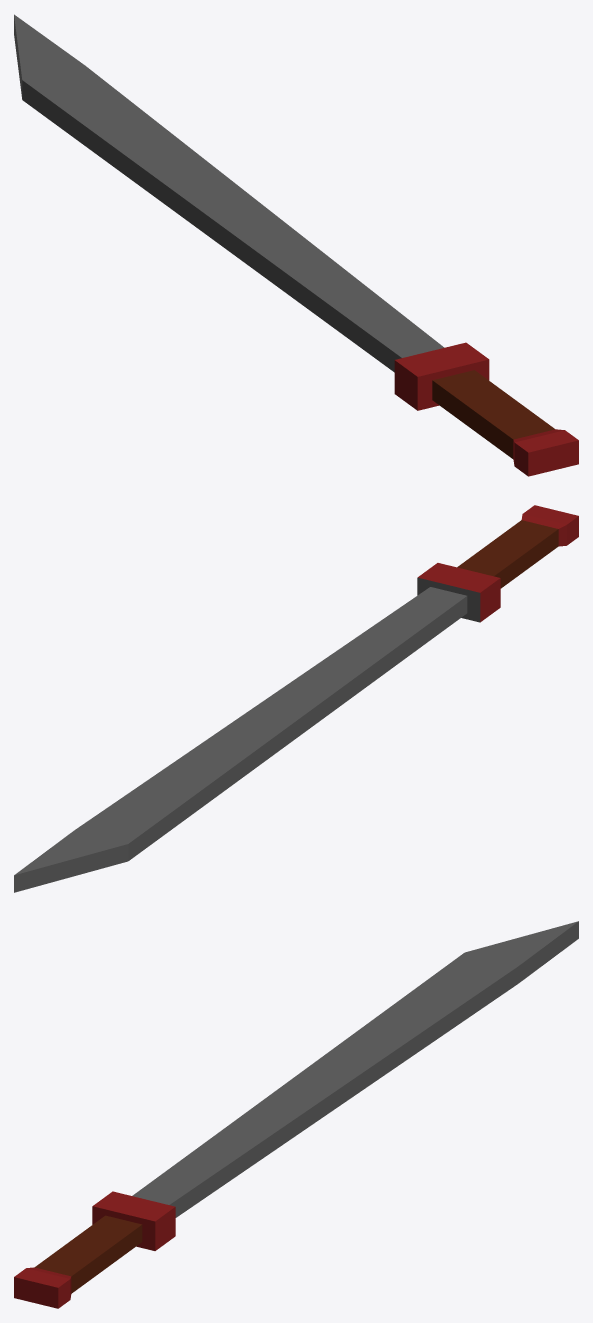
The model's file is Sabel.fbx.
3 renders of one model, top to bottom at view 1: azimuth 30°, elevation 25°; view 2: azimuth 150°, elevation 25°; view 3: azimuth 330°, elevation 25°, orthographic. The views are drawn at different scales.
Visible parts, largest first — view 1: Lez, Z, Ru; view 2: Lez, Ru, Z; view 3: Lez, Z, Ru.
Boxes of the visible parts, x1,y1,x2,y2 form: Lez: (14, 14, 444, 372); Z: (394, 342, 578, 476); Ru: (432, 370, 554, 458); Lez: (14, 577, 480, 892); Ru: (457, 520, 558, 588); Z: (418, 505, 578, 622); Lez: (132, 921, 578, 1217); Z: (14, 1191, 175, 1308); Ru: (35, 1215, 142, 1293).
Bounding box in the file's own units: 38.37 × 16.2 × 501.
